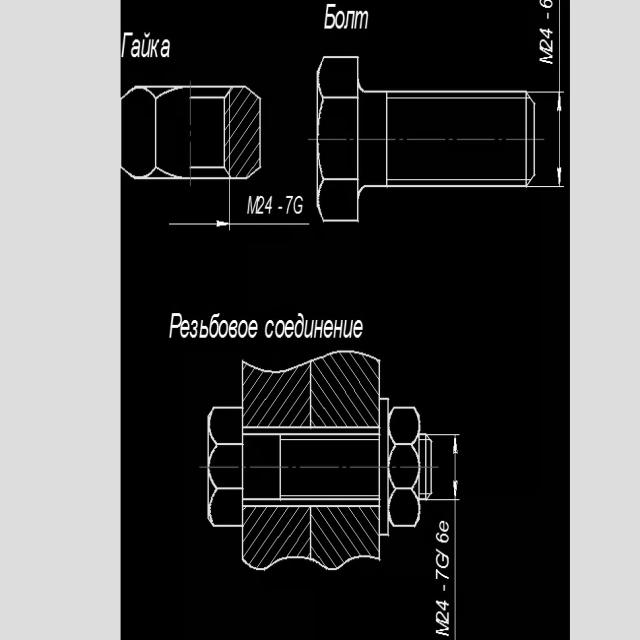marking_line: (536, 90, 566, 194), (170, 181, 234, 229), (433, 432, 461, 503)
numeric: (434, 547, 450, 569), (121, 32, 134, 58), (325, 2, 337, 30), (354, 10, 369, 30), (343, 10, 356, 29), (334, 9, 346, 29), (540, 47, 553, 65), (435, 620, 449, 636), (247, 196, 258, 215), (435, 569, 451, 581), (151, 38, 160, 59), (142, 39, 151, 59), (131, 38, 140, 58), (435, 610, 450, 622), (294, 193, 302, 215), (161, 39, 170, 58), (436, 599, 449, 612), (266, 194, 274, 215), (539, 38, 554, 49), (285, 195, 294, 213), (257, 195, 265, 215), (540, 27, 553, 39), (436, 532, 449, 544), (539, 0, 553, 10), (440, 520, 449, 533)
special_symbol: (276, 203, 284, 210), (143, 31, 150, 38), (546, 12, 550, 20), (443, 583, 446, 592)
